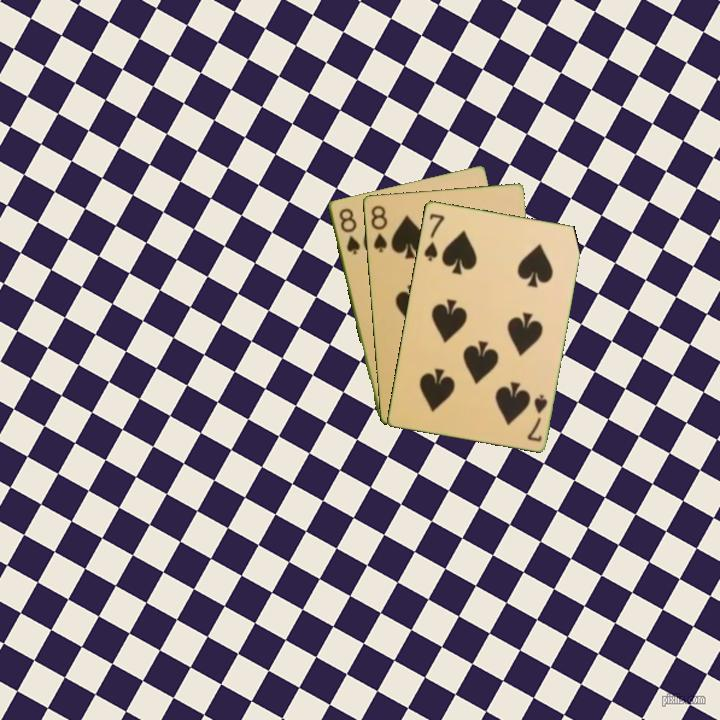7s: (420, 209, 447, 264), (523, 390, 550, 444)
8s: (335, 204, 363, 257), (367, 202, 390, 255)
